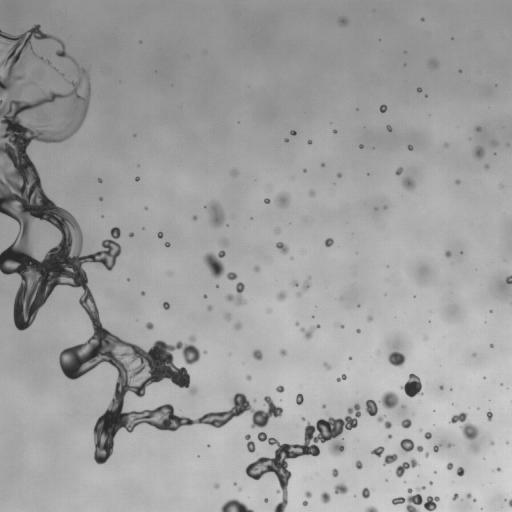droplet: (0, 24, 76, 96), (203, 250, 225, 278), (400, 374, 422, 397), (206, 201, 224, 227), (226, 282, 245, 305), (379, 390, 398, 409), (399, 438, 423, 453), (388, 351, 405, 367), (300, 325, 319, 339), (275, 193, 289, 207), (365, 399, 377, 415), (370, 446, 384, 457), (383, 454, 397, 465), (276, 242, 288, 254), (473, 146, 484, 159), (334, 483, 348, 493), (402, 178, 414, 189), (320, 491, 330, 503), (252, 349, 262, 360), (401, 419, 411, 428), (226, 272, 237, 280), (362, 487, 370, 498), (277, 291, 286, 300), (325, 238, 333, 247), (456, 467, 464, 476), (296, 394, 303, 404), (429, 60, 437, 68), (355, 460, 362, 469), (339, 18, 347, 25), (380, 104, 387, 112), (276, 385, 284, 392), (505, 275, 511, 284), (486, 411, 492, 420), (146, 322, 153, 329), (323, 362, 330, 369), (424, 432, 431, 439), (433, 445, 440, 452), (446, 462, 453, 469), (332, 469, 338, 477), (396, 168, 402, 175), (220, 239, 227, 245), (163, 302, 169, 309), (234, 323, 241, 329), (280, 349, 287, 355), (305, 491, 311, 498), (452, 493, 458, 500), (231, 169, 237, 175), (157, 232, 163, 238), (445, 251, 451, 257), (225, 313, 230, 320), (290, 130, 296, 135), (309, 190, 314, 196), (264, 198, 270, 203), (476, 126, 481, 131), (275, 229, 280, 234), (165, 242, 170, 247), (254, 266, 259, 271), (293, 281, 298, 286), (367, 316, 372, 321), (246, 375, 251, 380), (214, 483, 219, 488), (466, 493, 471, 498), (387, 125, 391, 131), (46, 60, 50, 65), (417, 87, 421, 92), (408, 145, 412, 150), (207, 305, 211, 310), (472, 446, 477, 450), (302, 501, 307, 505), (493, 141, 497, 145), (359, 144, 363, 148), (484, 164, 488, 168), (337, 173, 341, 177), (135, 177, 139, 181), (98, 178, 102, 182), (193, 215, 197, 219), (129, 232, 133, 236), (267, 309, 271, 313), (356, 329, 360, 333), (439, 385, 443, 389), (447, 443, 451, 447), (308, 140, 311, 144), (455, 180, 459, 183), (141, 291, 144, 295), (297, 292, 300, 296), (388, 434, 391, 438), (491, 441, 494, 445), (333, 130, 336, 133), (285, 138, 288, 141), (444, 143, 447, 146), (203, 295, 206, 298), (295, 322, 298, 325), (340, 325, 343, 328), (302, 417, 305, 420), (425, 453, 428, 456), (497, 468, 500, 471), (429, 481, 432, 484), (421, 18, 424, 20), (99, 198, 102, 200), (144, 207, 147, 209), (489, 310, 492, 312), (490, 344, 492, 347), (473, 353, 475, 356), (322, 405, 325, 407), (234, 482, 236, 485), (238, 488, 241, 490), (264, 499, 267, 501), (473, 499, 476, 501), (459, 70, 461, 72), (322, 163, 324, 165), (304, 169, 306, 171), (384, 206, 386, 208), (204, 351, 206, 353), (349, 357, 351, 359), (402, 405, 404, 407)
ligament: (0, 71, 280, 461), (245, 403, 360, 511), (392, 488, 439, 511), (450, 412, 478, 439), (395, 458, 418, 477), (220, 499, 253, 511), (244, 434, 255, 453), (377, 415, 391, 429), (302, 277, 310, 290), (37, 111, 45, 123), (365, 506, 378, 511), (337, 374, 346, 381), (416, 486, 424, 491), (508, 499, 511, 507)
